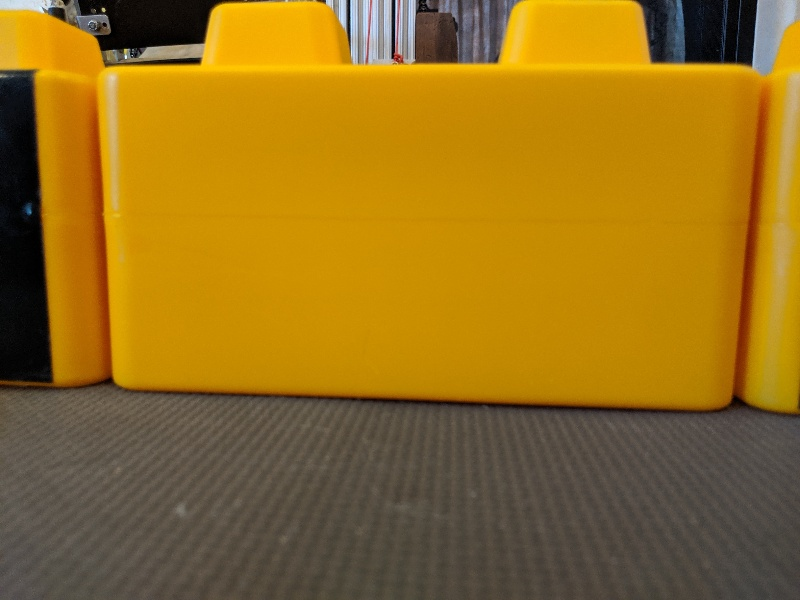ftc_stone: (84, 54, 768, 419)
